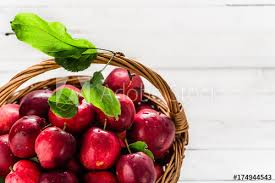apple: (126, 108, 175, 151), (51, 89, 95, 131), (103, 65, 150, 100), (110, 153, 164, 182), (9, 118, 52, 154), (80, 131, 121, 168), (98, 95, 139, 132), (38, 130, 75, 168), (17, 89, 56, 117), (7, 162, 41, 183)
